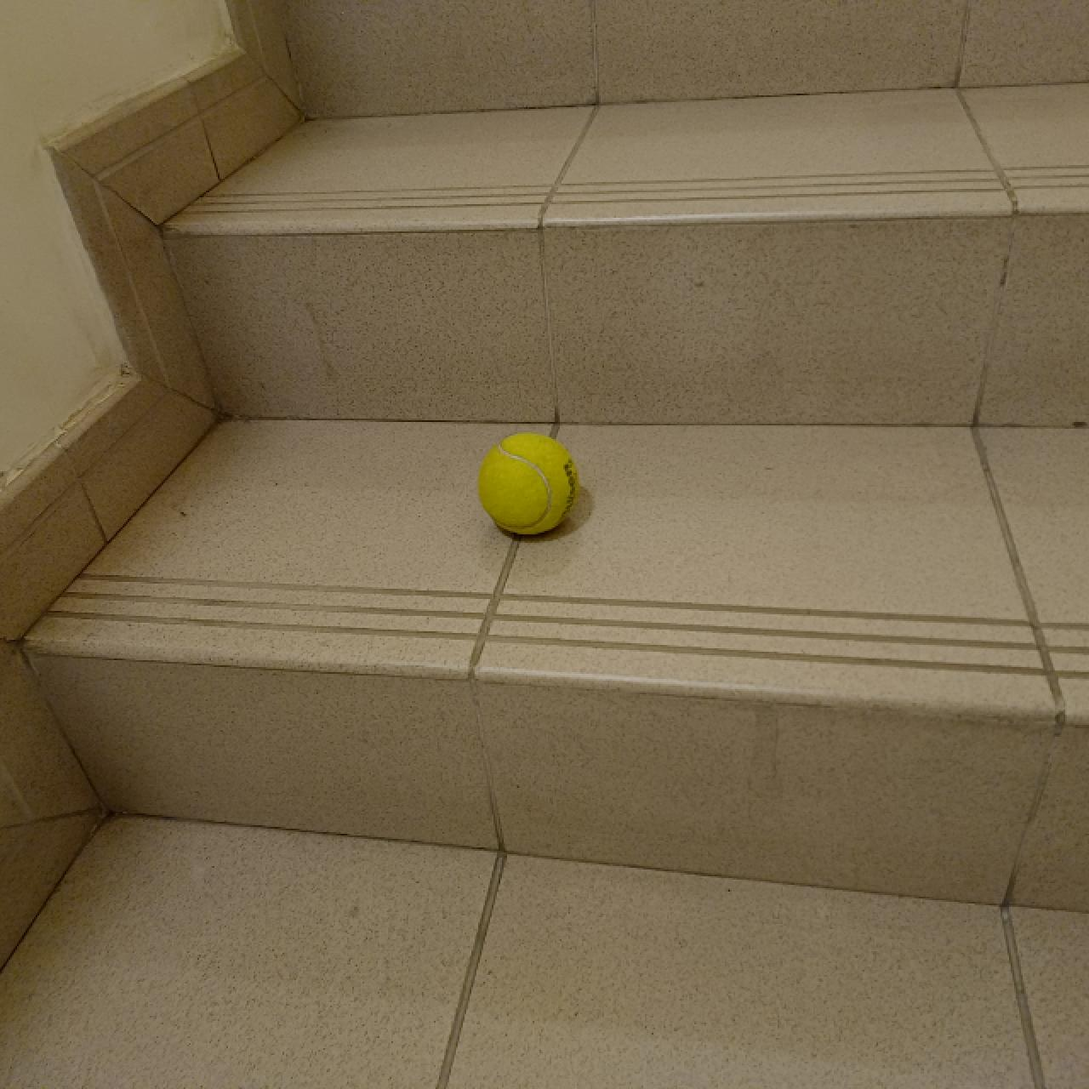tennis-ball: (482, 435, 580, 540)
